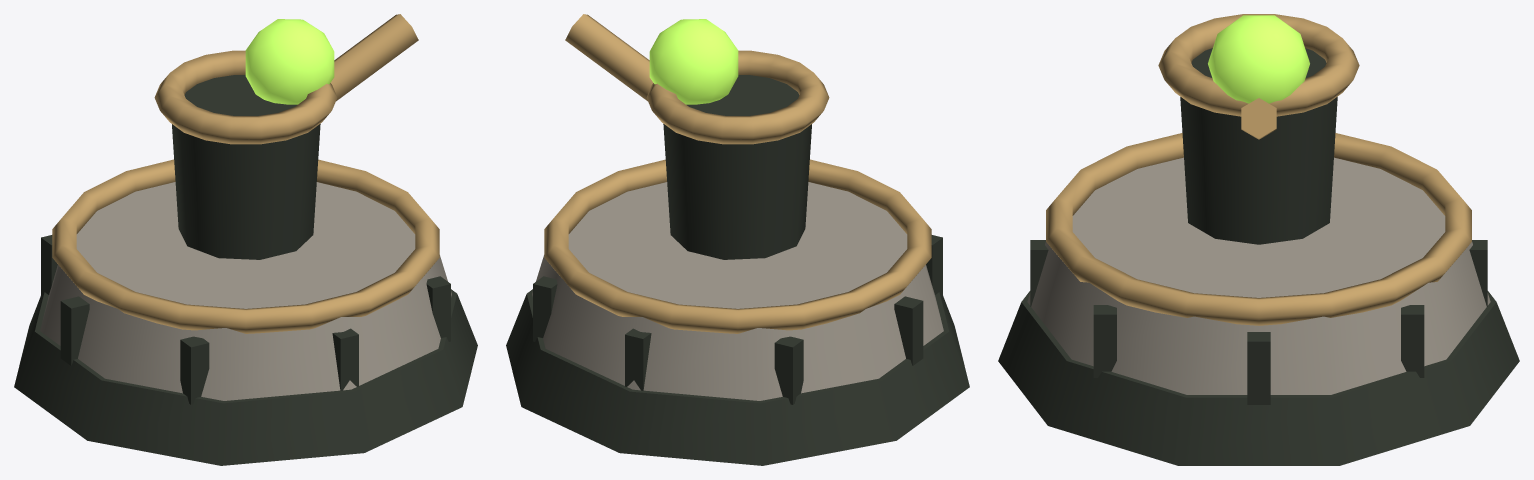
File: tower_poison.glb
3 renders of one model, left to right at view 1: azimuth 30°, elevation 25°; view 2: azimuth 150°, elevation 25°; view 3: azimuth 270°, elevation 25°, orthographic. The views are drawn at different scales.
Parts seen in each view (by area): view 1: stone_1, foot_0, vessel_11, rim_2, vessel_lip_13, gland_15, needle_14, mortar_6, mortar_7, mortar_5, mortar_4, mortar_8; view 2: stone_1, foot_0, vessel_11, rim_2, vessel_lip_13, gland_15, needle_14, mortar_8, mortar_7, mortar_9, mortar_10, mortar_6; view 3: stone_1, foot_0, rim_2, vessel_11, vessel_lip_13, gland_15, mortar_3, mortar_4, mortar_10, needle_14, mortar_5, mortar_9.
Part boxes in pixels (box(x1,y1,x2,y2)): stone_1: box(40, 182, 451, 400); foot_0: box(14, 289, 477, 465); vessel_11: box(172, 75, 320, 259); rim_2: box(52, 159, 439, 333); vessel_lip_13: box(154, 50, 337, 144); gland_15: box(245, 19, 334, 104); needle_14: box(330, 14, 418, 101); mortar_6: box(180, 336, 209, 404); mortar_7: box(60, 296, 89, 365); mortar_5: box(332, 328, 358, 390); mortar_4: box(426, 276, 450, 341); mortar_8: box(41, 235, 57, 296); stone_1: box(532, 182, 943, 400); foot_0: box(506, 289, 969, 465); vessel_11: box(663, 75, 811, 259); rim_2: box(544, 159, 931, 333); vessel_lip_13: box(646, 50, 829, 144); gland_15: box(649, 19, 738, 104); needle_14: box(565, 14, 653, 101); mortar_8: box(774, 336, 803, 404); mortar_7: box(894, 296, 923, 365); mortar_9: box(625, 328, 651, 390); mortar_10: box(533, 276, 557, 341); mortar_6: box(926, 235, 942, 296); stone_1: box(1027, 157, 1490, 394); foot_0: box(998, 291, 1519, 465); rim_2: box(1046, 133, 1471, 325); vessel_11: box(1180, 48, 1337, 244); vessel_lip_13: box(1158, 14, 1359, 116); gland_15: box(1208, 15, 1309, 103); mortar_3: box(1247, 332, 1270, 404); mortar_4: box(1093, 305, 1116, 377); mortar_10: box(1401, 305, 1424, 377); needle_14: box(1241, 98, 1276, 139); mortar_5: box(1030, 240, 1048, 306); mortar_9: box(1469, 240, 1487, 306).
Size of the model in its own units: 0.5326 by 0.435 by 0.56.
